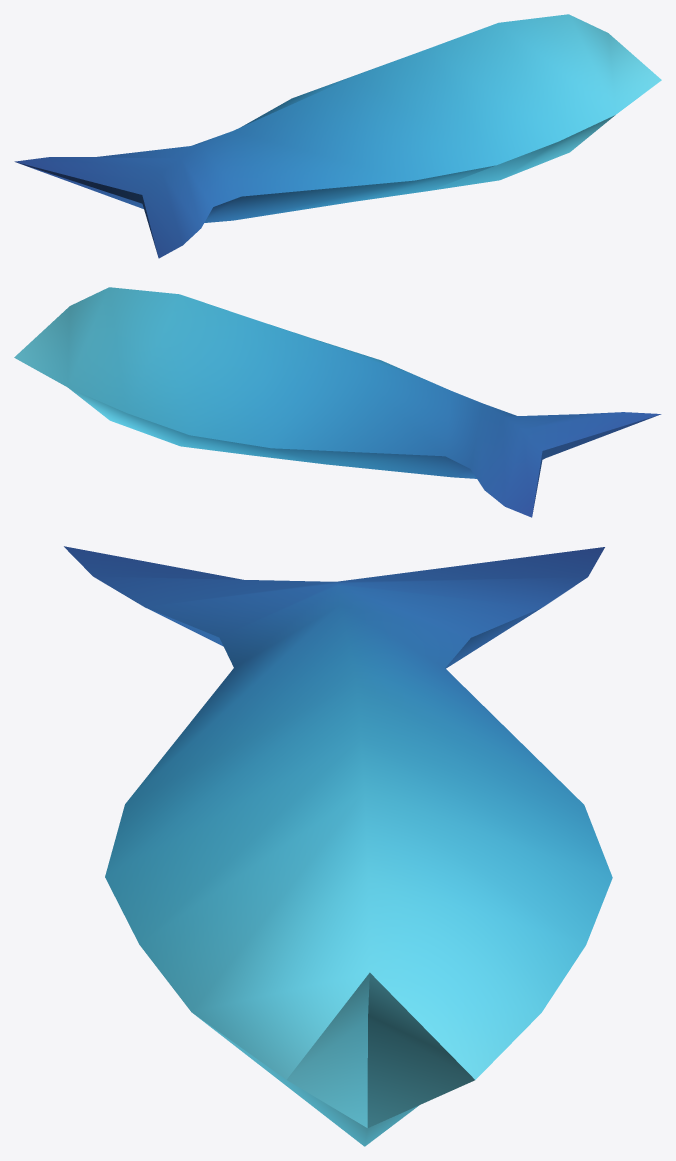
The model's file is SM_Fish.fbx.
3 views of the same model, one above another, from view 1: azimuth 30°, elevation 25°; view 2: azimuth 150°, elevation 25°; view 3: azimuth 270°, elevation 25° (orthographic). The views are drawn at different scales.
Parts seen in each view (by area): view 1: SM_Fish; view 2: SM_Fish; view 3: SM_Fish.
Boxes of the visible parts, x1=… form: SM_Fish: x1=14, y1=14, x2=661, y2=258; SM_Fish: x1=14, y1=287, x2=661, y2=517; SM_Fish: x1=64, y1=546, x2=612, y2=1146.
Size of the model in its own units: 1.64 by 0.4349 by 0.7075.
